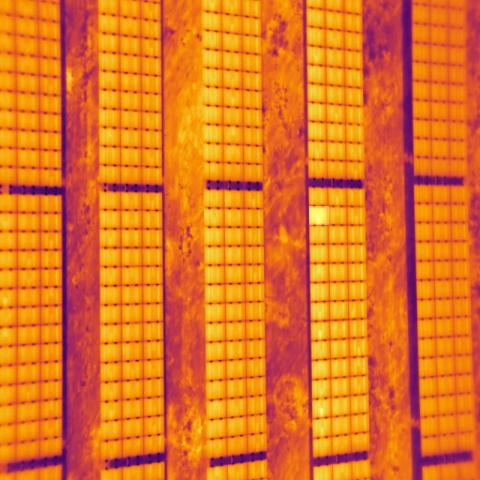fault: (309, 206, 329, 225)
